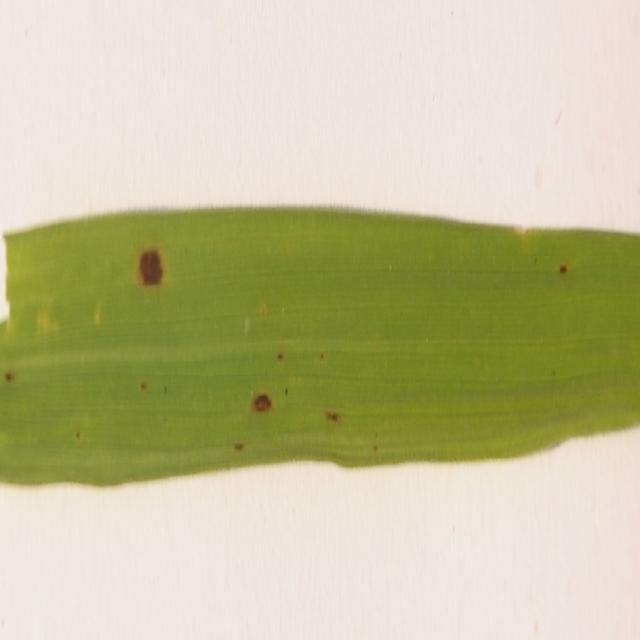Brownspot: (137, 249, 164, 286), (34, 307, 57, 333), (253, 395, 271, 414), (325, 410, 340, 423), (92, 307, 102, 325), (256, 301, 268, 316)
